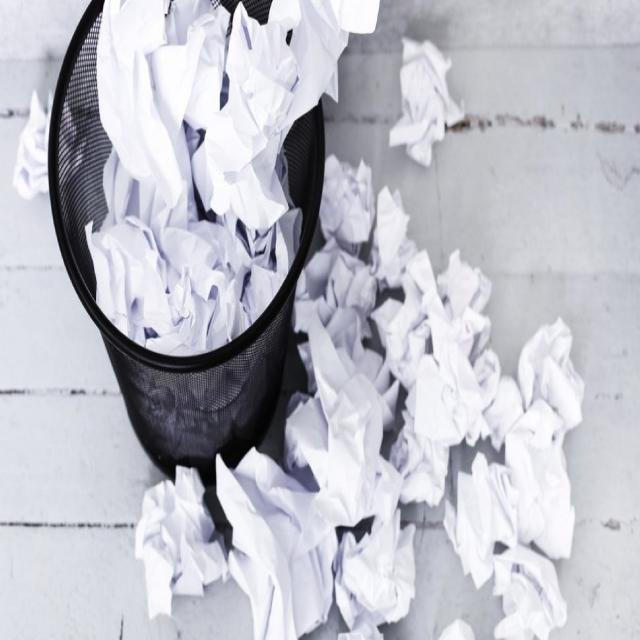Kertas: (220, 5, 340, 279), (95, 0, 206, 233), (294, 312, 405, 526), (206, 431, 313, 600), (500, 378, 580, 557), (516, 300, 613, 440), (124, 476, 228, 605), (85, 208, 166, 337), (339, 514, 436, 604), (184, 228, 253, 350), (384, 24, 456, 138), (326, 144, 385, 282), (484, 550, 582, 633), (458, 445, 517, 582)
